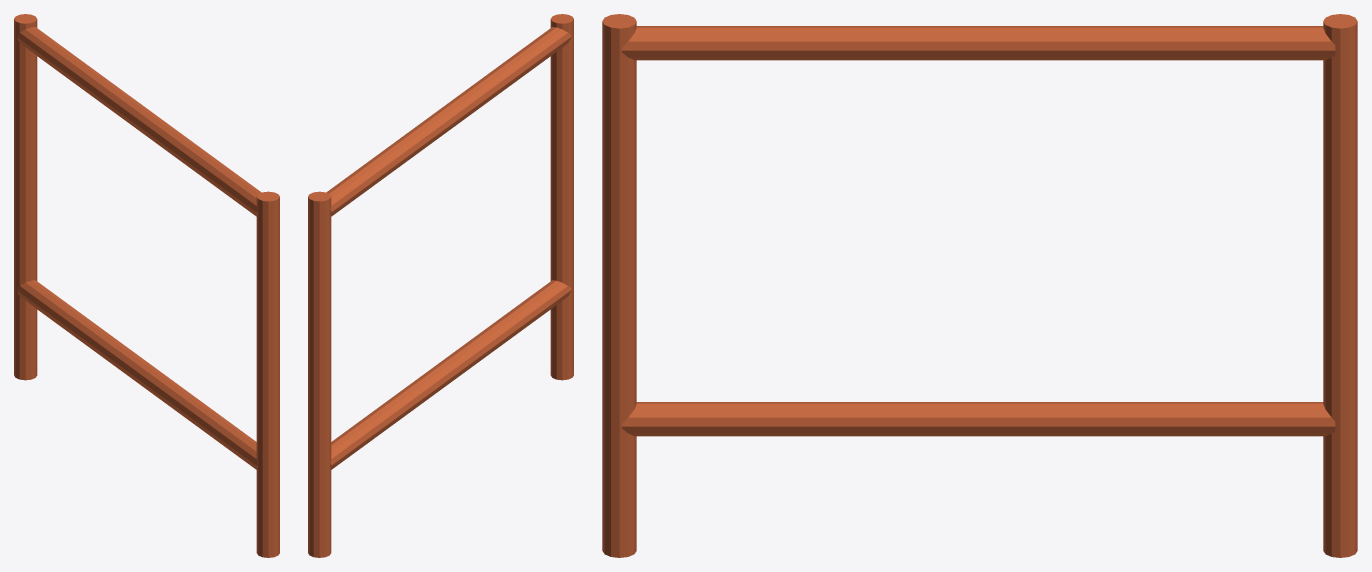
File: Beach_ProjectorBase.fbx
3 views of the same model, side by side, from view 1: azimuth 30°, elevation 25°; view 2: azimuth 150°, elevation 25°; view 3: azimuth 270°, elevation 25° (orthographic). The views are drawn at different scales.
Visible parts, largest first — view 1: Projector Base; view 2: Projector Base; view 3: Projector Base.
Part boxes in pixels (x1,y1,x2,y2): Projector Base: (14,14,279,557); Projector Base: (308,14,573,557); Projector Base: (602,14,1357,557).
Bounding box in the file's own units: 40 × 677 × 875.
